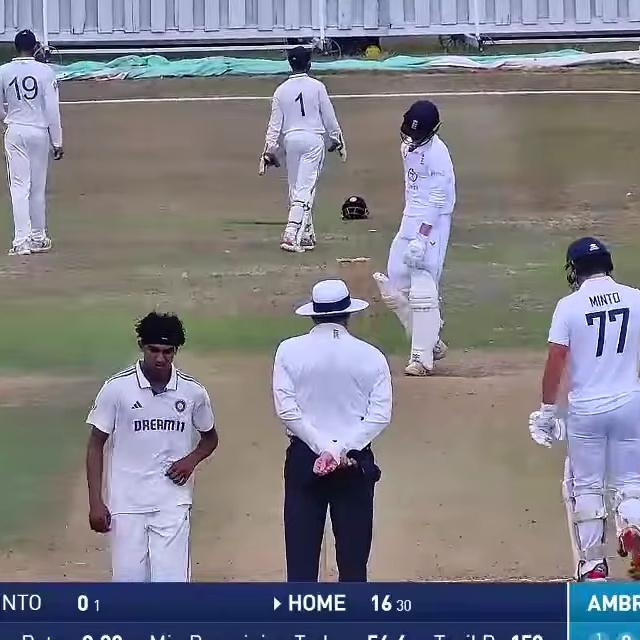umpire: (259, 270, 406, 584)
